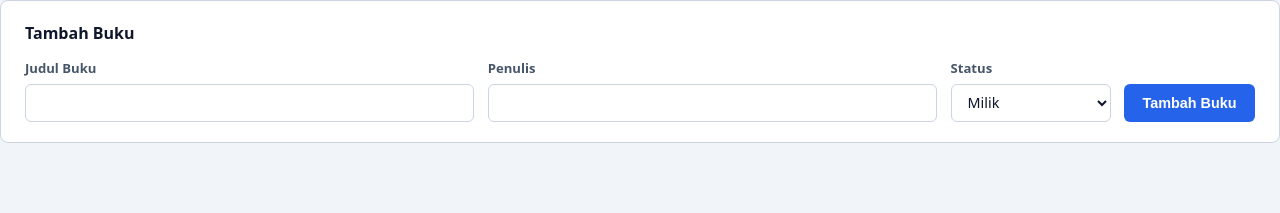
Test case: Komponen Manajemen Buku › menampilkan pesan error saat form disubmit kosong
The image size is (1280, 213).
Step 1. Click the button "Tambah Buku" → click(1190, 103), box [1124,84,1255,122]
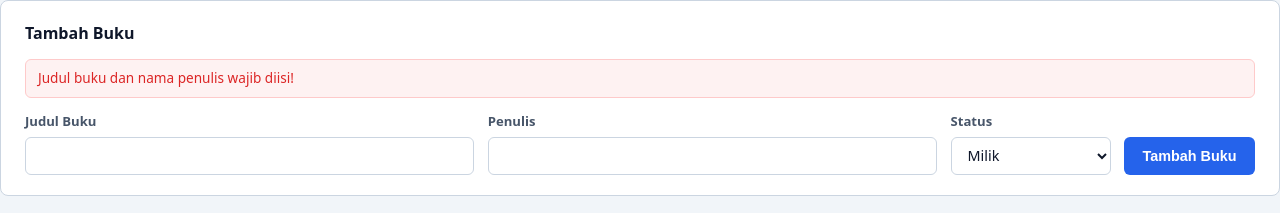
Now the text "Judul buku dan nama penulis wajib diisi!" is shown, box [25,59,1255,98]
